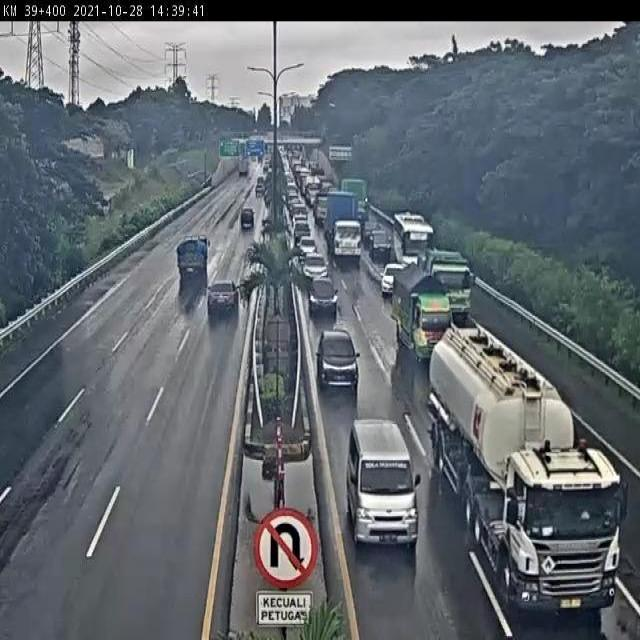big bus: (389, 212, 429, 265)
big truck: (430, 321, 620, 615), (325, 186, 361, 258)
car: (344, 415, 421, 549), (314, 330, 359, 386), (205, 283, 238, 316), (308, 279, 339, 313), (380, 261, 407, 296), (302, 252, 327, 281), (367, 228, 390, 257), (236, 205, 257, 232)
mid truck: (419, 246, 472, 306)
small truck: (177, 233, 210, 275)
truck-m-: (392, 265, 454, 352)
